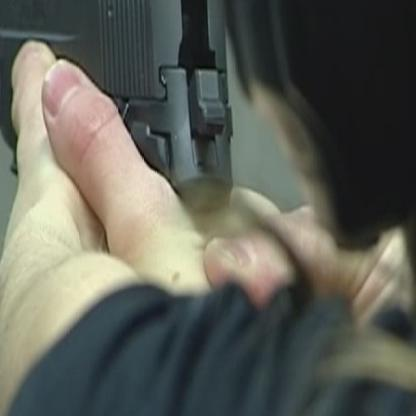gun: (0, 0, 250, 316)
